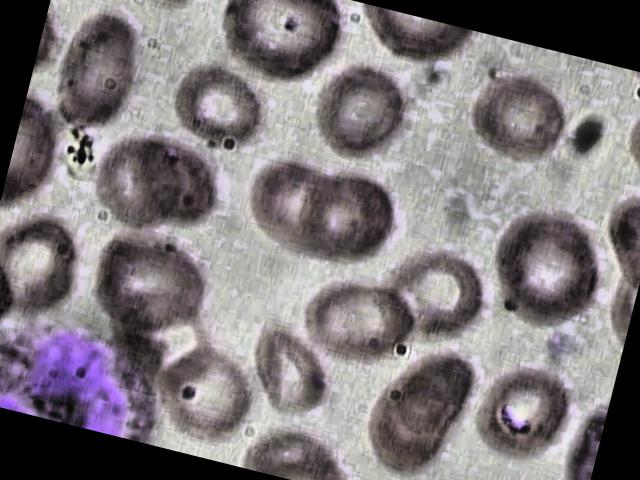RBC: (474, 190, 618, 342), (290, 257, 426, 382), (366, 229, 502, 354), (457, 343, 592, 468), (80, 220, 217, 340), (137, 332, 274, 452), (198, 0, 361, 96), (288, 153, 414, 273), (301, 53, 426, 173), (230, 306, 355, 426), (44, 0, 150, 140), (224, 142, 337, 258), (117, 126, 233, 238), (72, 126, 188, 238), (153, 55, 274, 161), (464, 64, 576, 168), (376, 336, 488, 440), (350, 381, 462, 480)
WBC: (0, 307, 187, 448)
